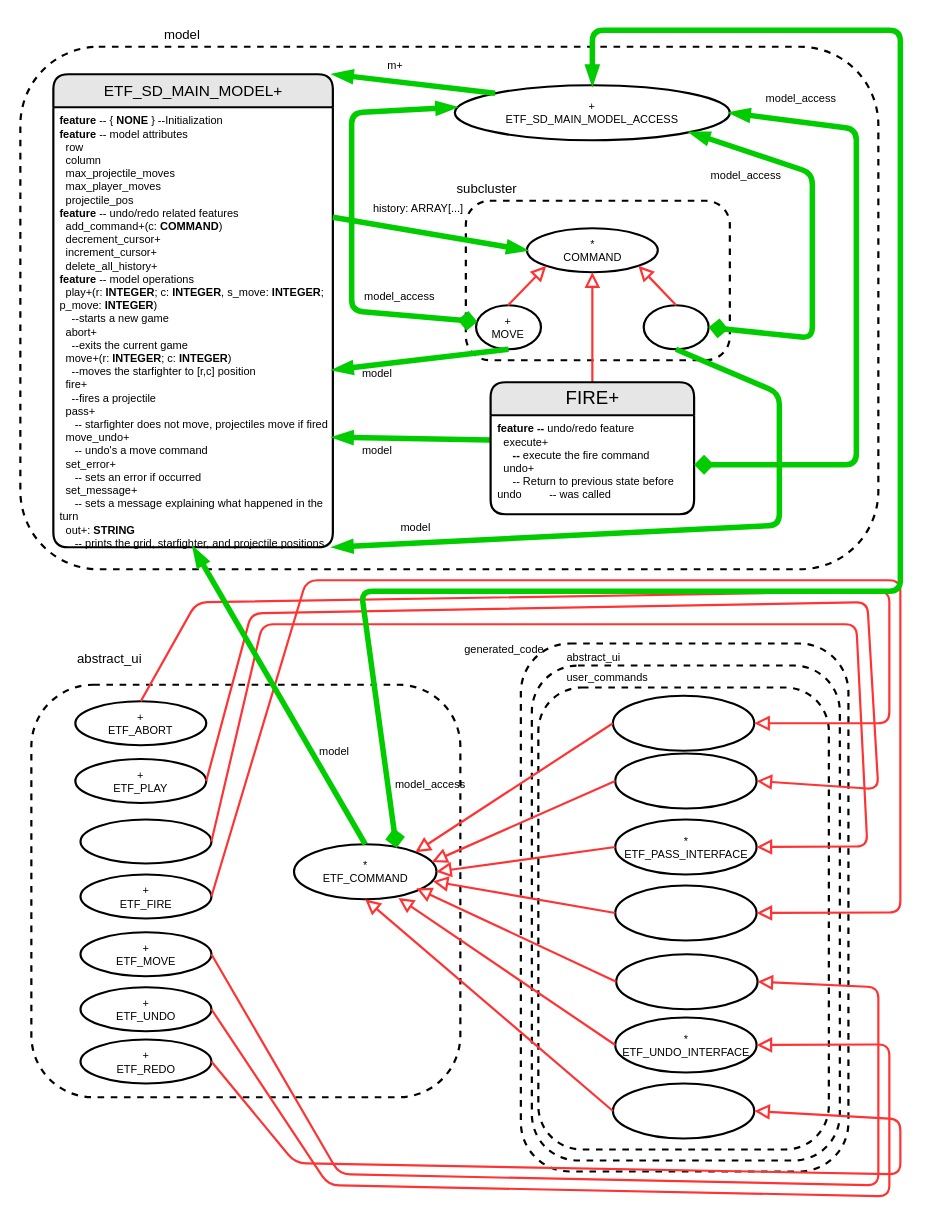
The diagram is 932 pixels wide and 1229 high, and some of its shapes have lost their labels. Each missing label, with the centre of its shape:
"* ETF_ABORT_INTERFACE" belongs at (683,722).
"* ETF_FIRE_INTERFACE" belongs at (685,912).
"* ETF_MOVE_INTERFACE" belongs at (686,981).
"* ETF_PLAY_INTERFACE" belongs at (685,780).
"* ETF_REDO_INTERFACE" belongs at (683,1110).
"+ ETF_PASS" belongs at (145,841).
"+ PASS" belongs at (675,327).
